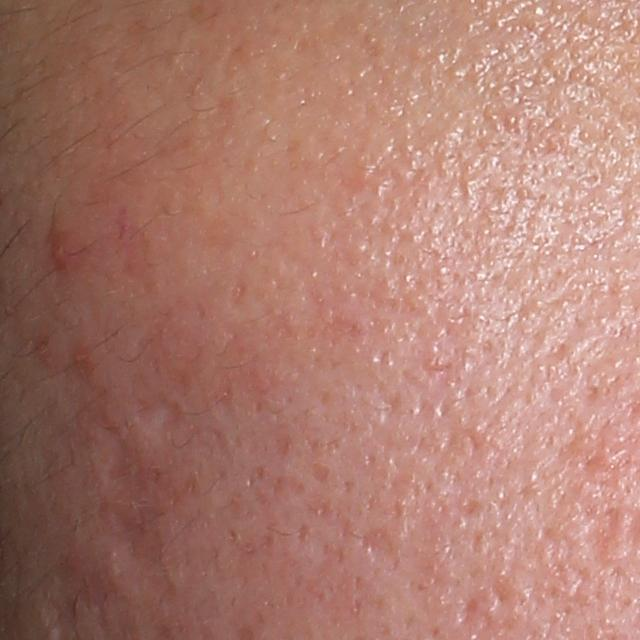atrophic_scar: (136, 383, 198, 440), (359, 525, 398, 569)
papule: (51, 225, 78, 273)
